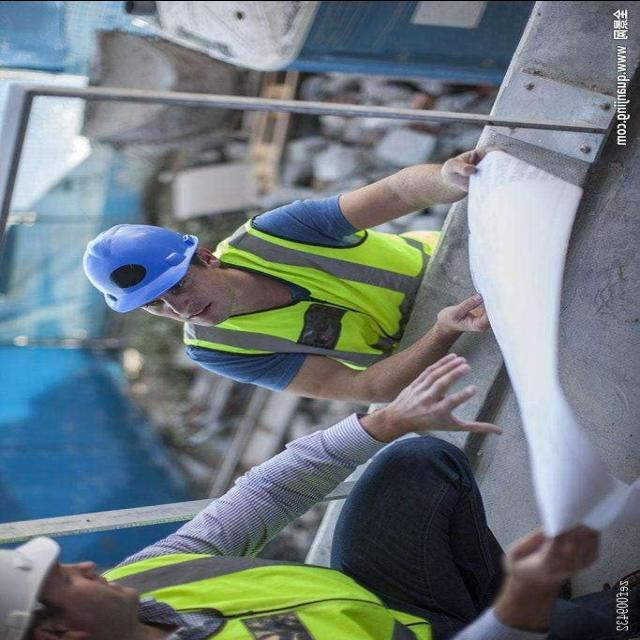helmet: (75, 208, 191, 316)
jacket: (187, 208, 430, 380), (94, 538, 447, 640)
